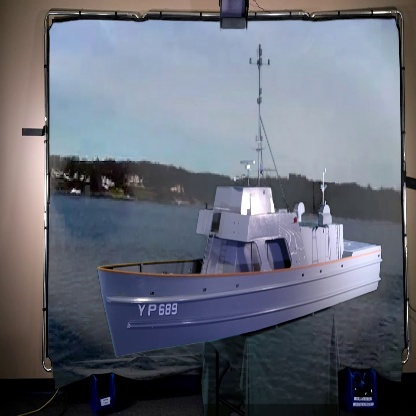YP689: (97, 43, 383, 360)
